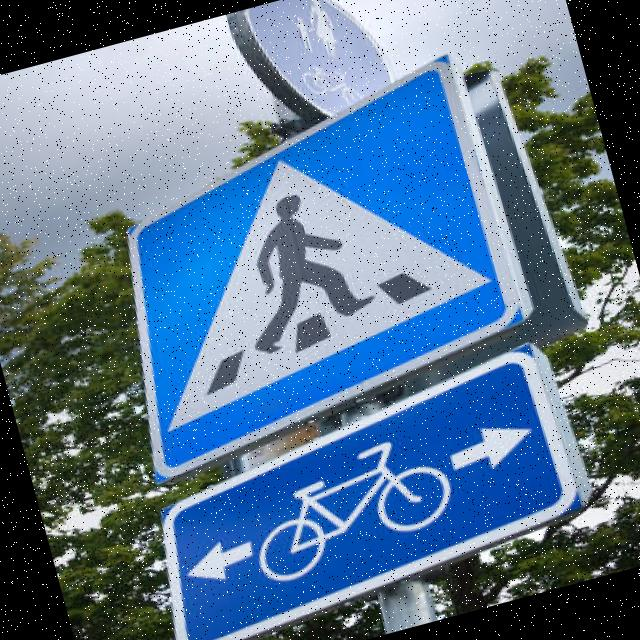crosswalk: (29, 38, 564, 481)
